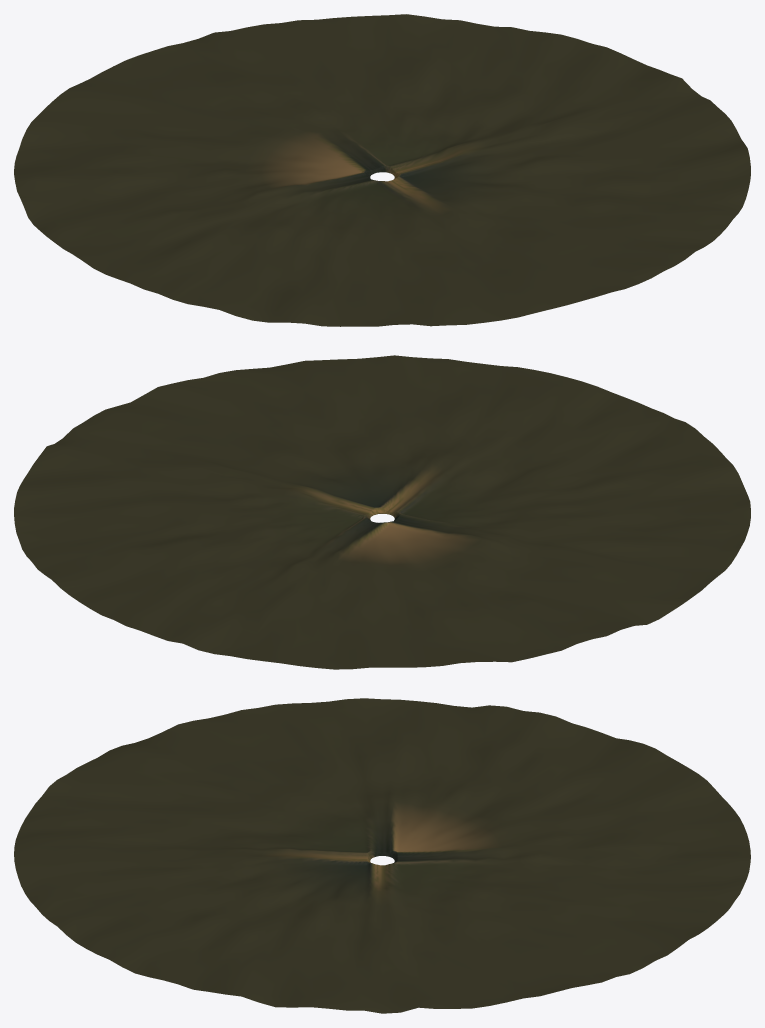
File: assos-athena-tapinagi-skirt.glb
The picture shows the model from 3 angles, top to bottom: view 1: azimuth 30°, elevation 25°; view 2: azimuth 150°, elevation 25°; view 3: azimuth 270°, elevation 25°; orthographic projection.
Parts seen in each view (by area): view 1: assos-athena-tapinagi-skirt; view 2: assos-athena-tapinagi-skirt; view 3: assos-athena-tapinagi-skirt.
Part boxes in pixels (x1,y1,x2,y2): assos-athena-tapinagi-skirt: (14,14,750,326); assos-athena-tapinagi-skirt: (14,355,750,669); assos-athena-tapinagi-skirt: (14,698,750,1013).
Size of the model in its own units: 8400 by 128 by 8400.
